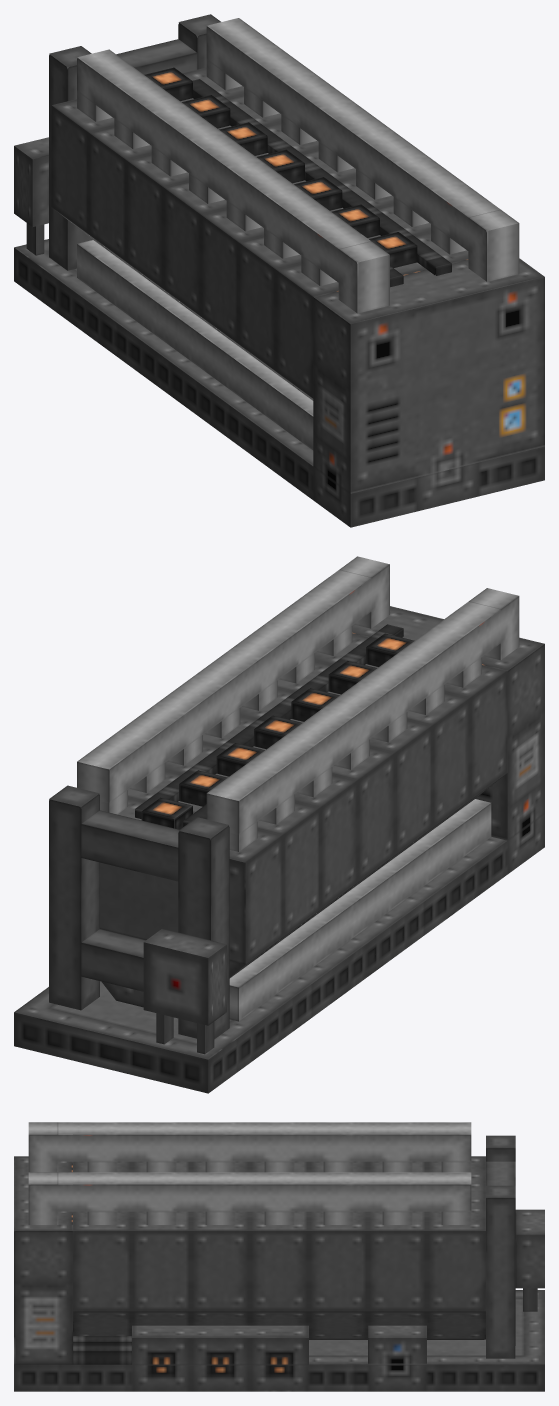
File: electrolytic_crucible_battery.obj
3 renders of one model, top to bottom at view 1: azimuth 30°, elevation 25°; view 2: azimuth 150°, elevation 25°; view 3: azimuth 270°, elevation 25°, orthographic. The views are drawn at different scales.
Visible parts, largest first — view 1: electrolytic_crucible_battery; view 2: electrolytic_crucible_battery; view 3: electrolytic_crucible_battery.
Part boxes in pixels (left/top/right/bottom): electrolytic_crucible_battery: left=14, top=14, right=544, bottom=527; electrolytic_crucible_battery: left=14, top=556, right=544, bottom=1093; electrolytic_crucible_battery: left=14, top=1122, right=544, bottom=1391.
Size of the model in its own units: 3 by 3.75 by 9.
